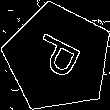P_SE: (27, 30, 89, 86)
